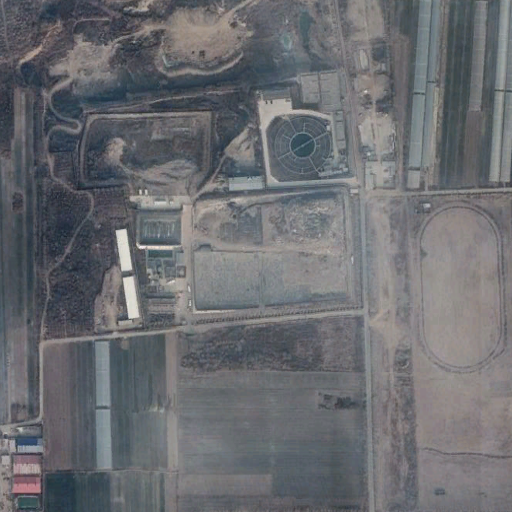lf: (189, 192, 358, 313)
